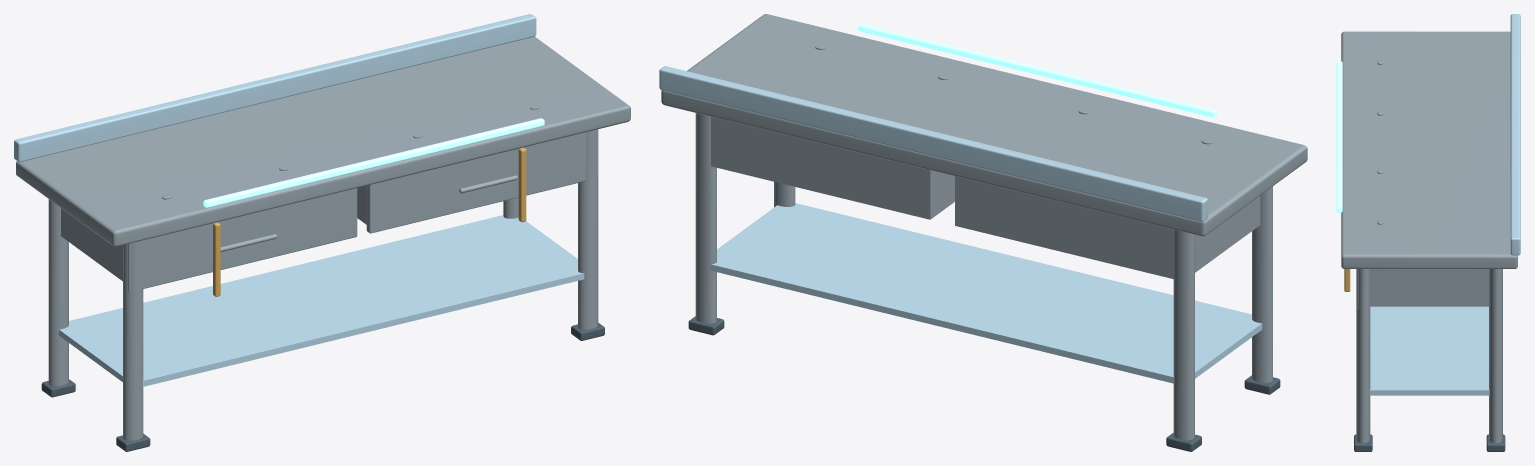
Rendered from research_bench.glb.
3 renders of one model, left to right at view 1: azimuth 30°, elevation 25°; view 2: azimuth 150°, elevation 25°; view 3: azimuth 270°, elevation 25°, orthographic. The views are drawn at different scales.
Visible parts, largest first — view 1: Lab_Worktop, Bench_Undershelf, Back_Rail, Lab_Drawer0.36_Front, Lab_Drawer-0.36_Front, Bench_Leg-0.680.27, Bench_Leg0.680.27, Bench_Leg-0.68-0.27, Bench_Front_Rim, Lab_Drawer-0.36_Side-0.676, Bench_Service_Rail_2; view 2: Lab_Worktop, Bench_Undershelf, Back_Rail, Lab_Drawer0.36_Rear, Lab_Drawer-0.36_Rear, Bench_Leg-0.68-0.27, Bench_Leg0.68-0.27, Bench_Leg-0.680.27, Bench_Front_Rim, Lab_Drawer-0.36_Side-0.676, Lab_Drawer0.36_Side0.04399999999999998; view 3: Lab_Worktop, Bench_Undershelf, Lab_Drawer0.36_Side0.676, Back_Rail, Bench_Leg0.680.27, Bench_Leg0.68-0.27, Bench_Front_Rim, Lab_Drawer0.36_Bottom, Foot_Pad0.68-0.27, Foot_Pad0.680.27.
Part boxes in pixels (x1=…): Lab_Worktop: x1=16, y1=36, x2=630, y2=246; Bench_Undershelf: x1=59, y1=215, x2=584, y2=386; Back_Rail: x1=14, y1=14, x2=536, y2=162; Lab_Drawer0.36_Front: x1=366, y1=129, x2=597, y2=233; Lab_Drawer-0.36_Front: x1=128, y1=188, x2=357, y2=292; Bench_Leg-0.680.27: x1=123, y1=240, x2=143, y2=440; Bench_Leg0.680.27: x1=578, y1=129, x2=598, y2=329; Bench_Leg-0.68-0.27: x1=48, y1=199, x2=68, y2=386; Bench_Front_Rim: x1=203, y1=118, x2=544, y2=207; Lab_Drawer-0.36_Side-0.676: x1=61, y1=208, x2=122, y2=281; Bench_Service_Rail_2: x1=518, y1=147, x2=526, y2=222; Lab_Worktop: x1=661, y1=14, x2=1307, y2=236; Bench_Undershelf: x1=710, y1=203, x2=1262, y2=383; Back_Rail: x1=659, y1=66, x2=1207, y2=221; Lab_Drawer0.36_Rear: x1=711, y1=116, x2=931, y2=219; Lab_Drawer-0.36_Rear: x1=955, y1=176, x2=1174, y2=279; Bench_Leg-0.68-0.27: x1=1173, y1=229, x2=1194, y2=440; Bench_Leg0.68-0.27: x1=695, y1=113, x2=716, y2=323; Bench_Leg-0.680.27: x1=1252, y1=186, x2=1272, y2=382; Bench_Front_Rim: x1=858, y1=23, x2=1216, y2=117; Lab_Drawer-0.36_Side-0.676: x1=1195, y1=196, x2=1260, y2=272; Lab_Drawer0.36_Side0.04399999999999998: x1=931, y1=170, x2=954, y2=218; Lab_Worktop: x1=1341, y1=31, x2=1517, y2=268; Bench_Undershelf: x1=1369, y1=306, x2=1489, y2=395; Lab_Drawer0.36_Side0.676: x1=1370, y1=269, x2=1489, y2=306; Back_Rail: x1=1510, y1=14, x2=1520, y2=255; Bench_Leg0.680.27: x1=1356, y1=269, x2=1370, y2=443; Bench_Leg0.68-0.27: x1=1489, y1=269, x2=1502, y2=443; Bench_Front_Rim: x1=1336, y1=61, x2=1342, y2=212; Lab_Drawer0.36_Bottom: x1=1370, y1=302, x2=1489, y2=305; Foot_Pad0.68-0.27: x1=1486, y1=434, x2=1505, y2=451; Foot_Pad0.680.27: x1=1354, y1=434, x2=1372, y2=451.
Bounding box in the file's own units: 2.17 × 1 × 0.7495.
